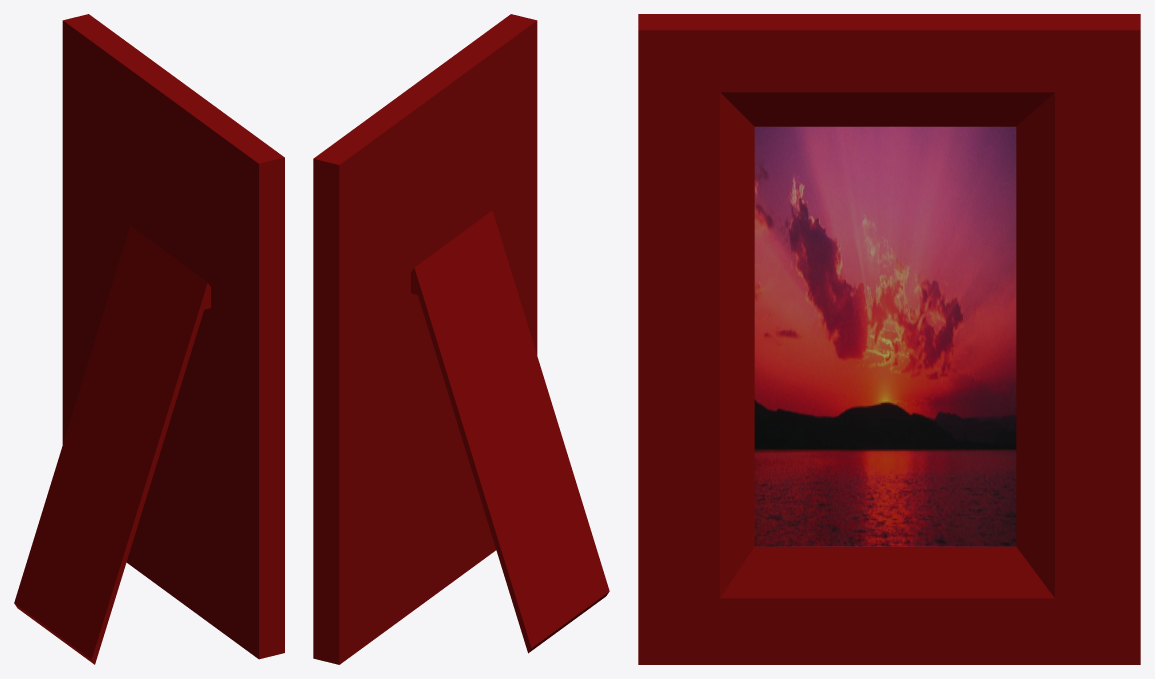
The picture shows the model from 3 angles, left to right: view 1: azimuth 30°, elevation 25°; view 2: azimuth 150°, elevation 25°; view 3: azimuth 270°, elevation 25°; orthographic projection. The views are drawn at different scales.
Parts seen in each view (by area): view 1: Mesh1_Group1_Model.002; view 2: Mesh1_Group1_Model.002; view 3: Mesh1_Group1_Model.002.
Boxes of the visible parts, left/top/right/bottom form: Mesh1_Group1_Model.002: left=14, top=14, right=284, bottom=664; Mesh1_Group1_Model.002: left=313, top=14, right=609, bottom=664; Mesh1_Group1_Model.002: left=638, top=14, right=1140, bottom=664.
Size of the model in its own units: 0.3 by 1 by 0.7.
3 materials, 1 textured.
